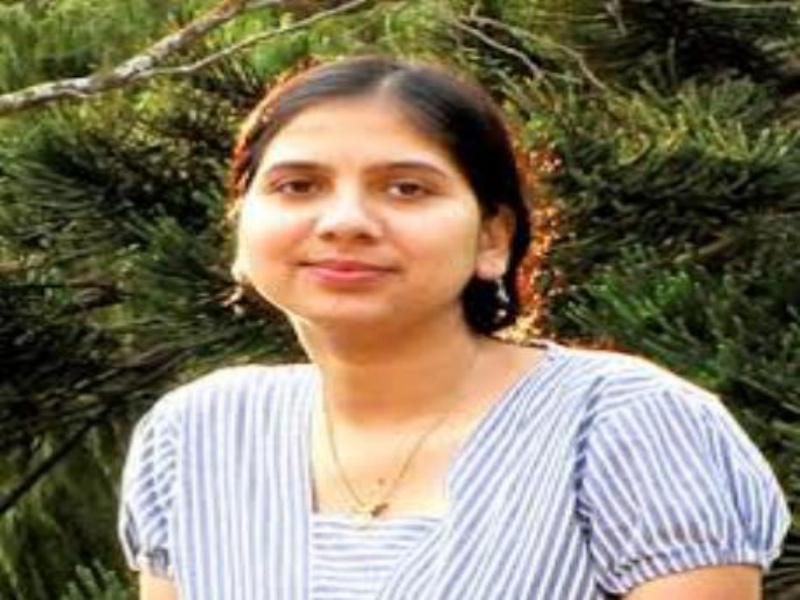TsisyArotava: (196, 69, 563, 346)
